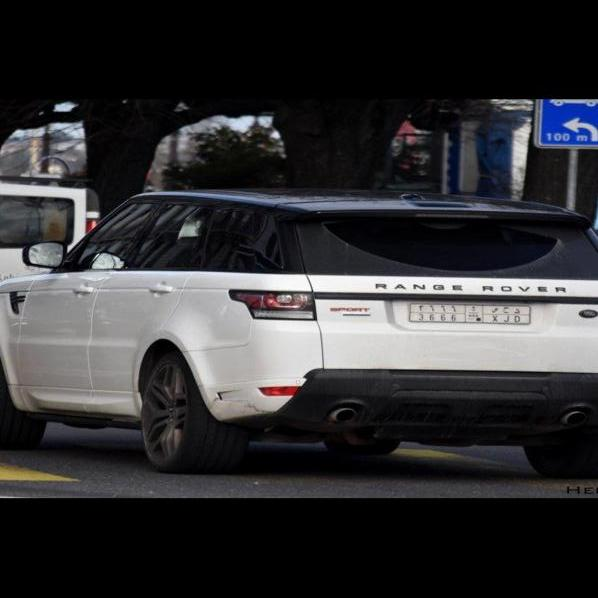numberplate: (408, 299, 537, 328)
